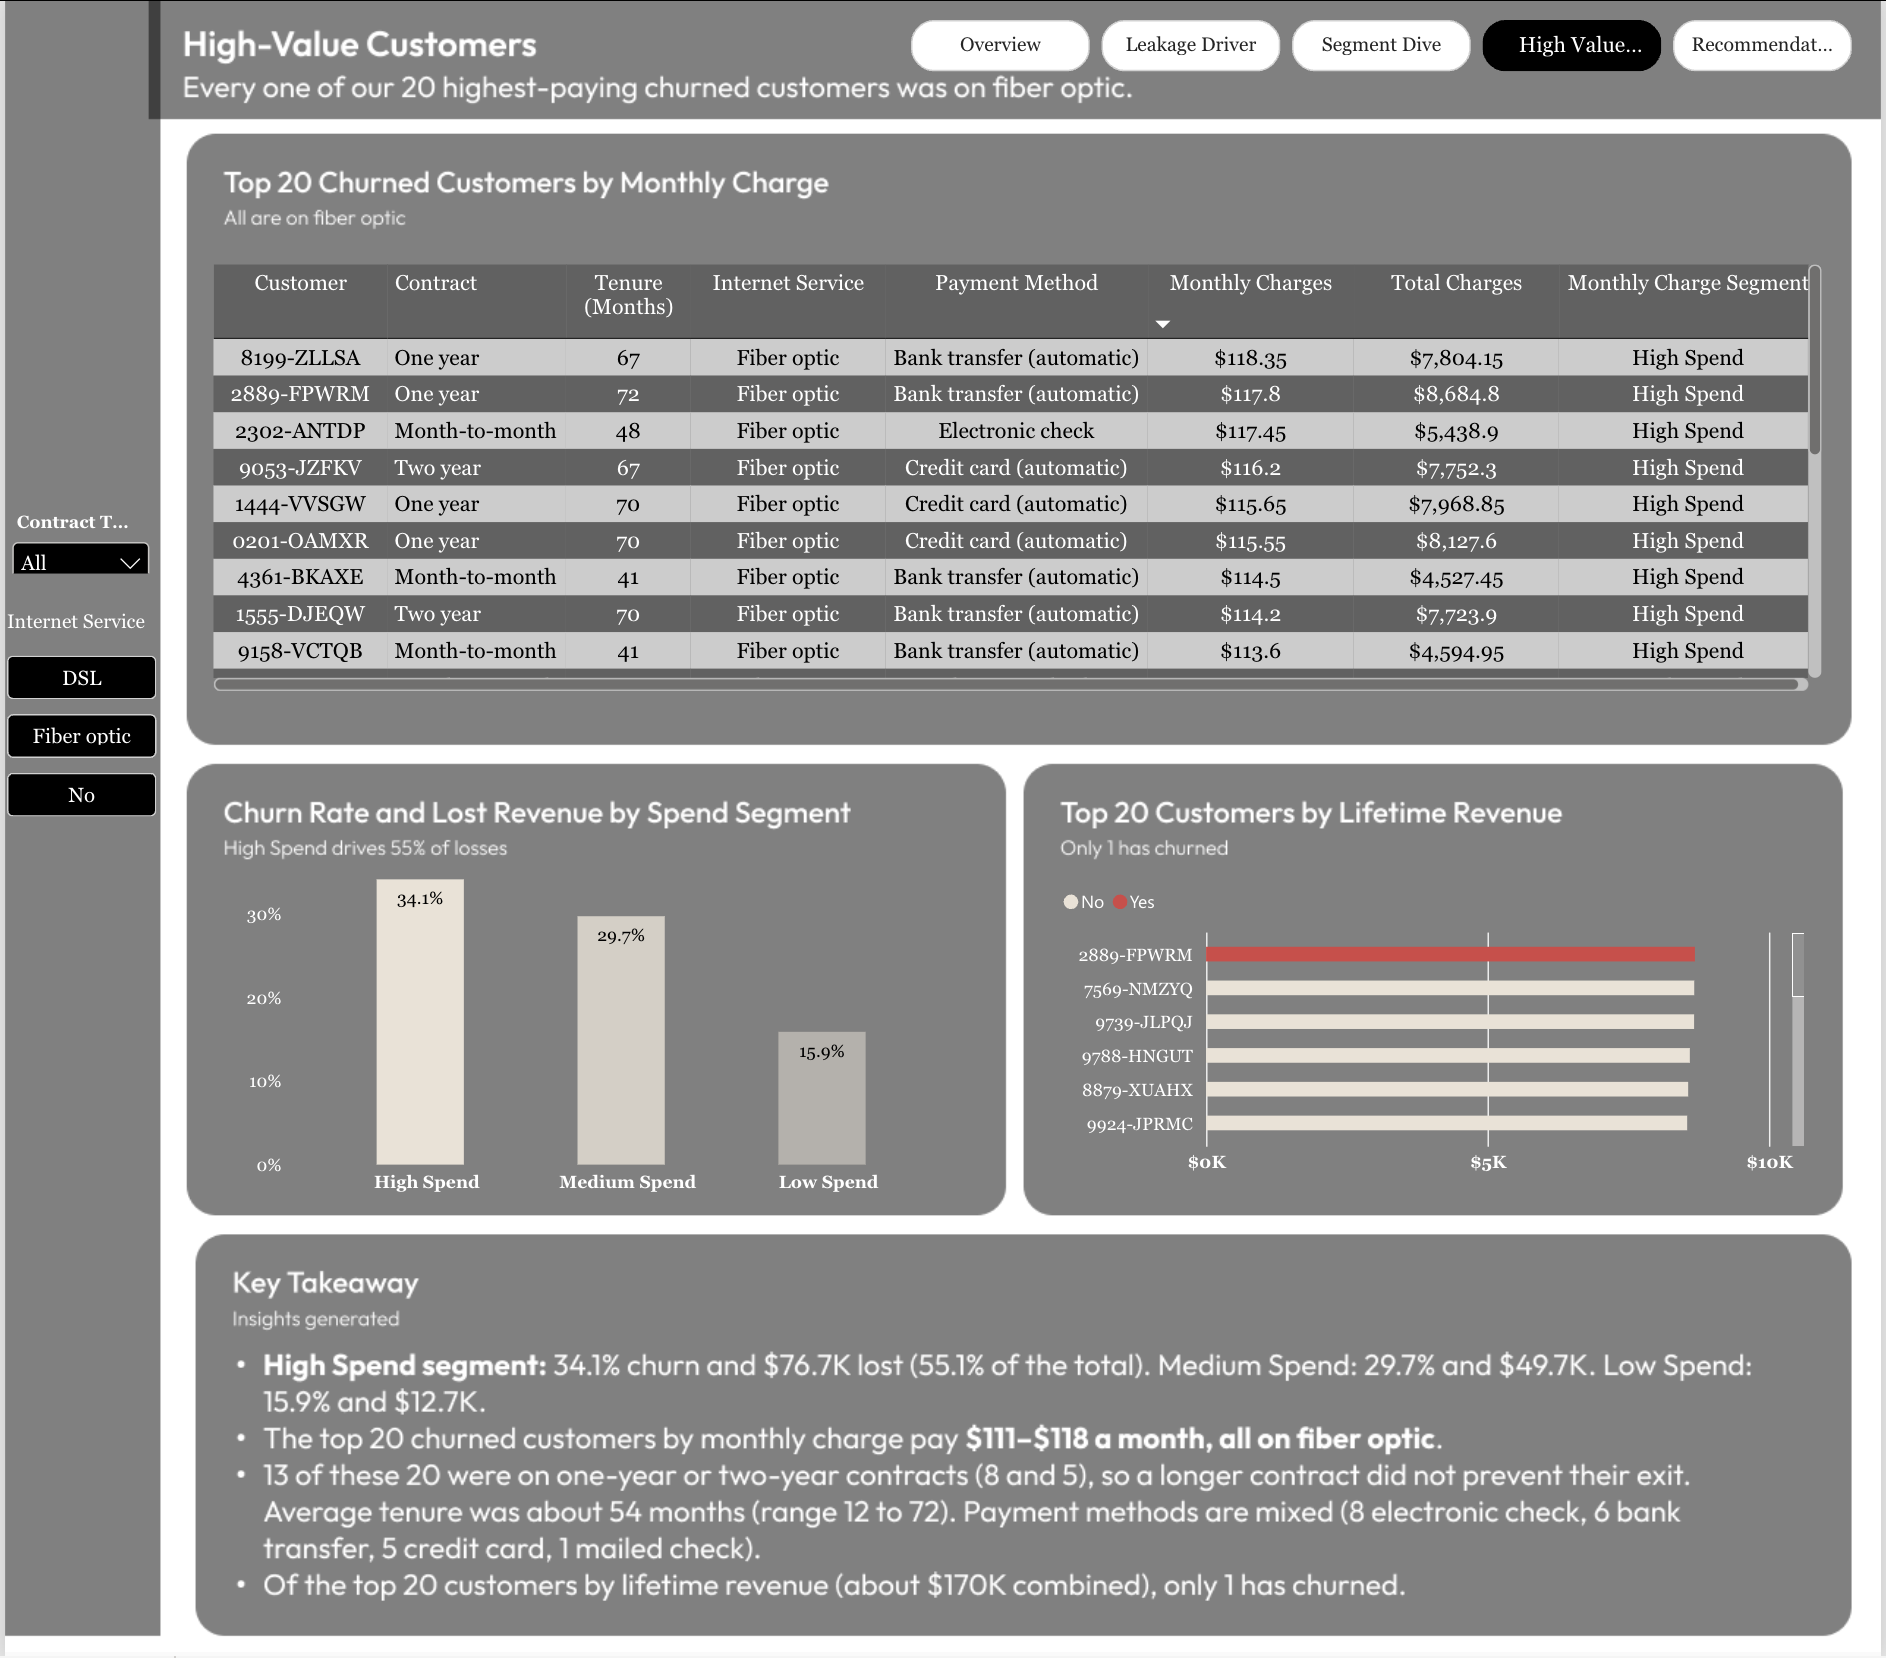

Layout of this report page (visuals, bound fields, positions):
{"tool":"powerbi","page":{"name":"High Value Category","canvas":[1280,1130],"ordinal":3},"visuals":[{"type":"tableEx","fields":{"Values":["Clean IBM Teleco data 2.customerID","Clean IBM Teleco data 2.Contract","Clean IBM Teleco data 2.tenure","Clean IBM Teleco data 2.InternetService","Clean IBM Teleco data 2.PaymentMethod","Clean IBM Teleco data 2.MonthlyCharges","Clean IBM Teleco data 2.TotalCharges","Clean IBM Teleco data 2.MonthlyChargeSegment"]},"box":[125.6,166.8,1130,321.1],"z":0},{"type":"clusteredColumnChart","fields":{"Category":["Clean IBM Teleco data 2.MonthlyChargeSegment"],"Y":["Clean IBM Teleco data 2.Churn Rate %"]},"box":[148.9,572.2,518.4,261.9],"z":1000},{"type":"barChart","fields":{"Category":["Clean IBM Teleco data 2.customerID"],"Series":["Clean IBM Teleco data 2.Churn"],"Y":["Sum(Clean IBM Teleco data 2.TotalCharges)"]},"box":[704.9,586.5,538.1,233.2],"z":2000},{"type":"slicer","fields":{"Values":["Clean IBM Teleco data 2.Contract"]},"box":[0,349.8,103.5,41.9],"z":3000},{"type":"advancedSlicerVisual","title":"Internet Service","fields":{"Values":["Clean IBM Teleco data 2.InternetService"]},"box":[1.3,416.6,102.2,141.5],"z":4000},{"type":"pageNavigator","box":[618.3,13.6,642.7,35.3],"z":5000}]}

Visuals, with their boxes in screenshot pixels (x1, y1, x2, y2), scaled from the page's 1280x1130 canvas onto the 1886x1658 screenshot:
tableEx - Clean IBM Teleco data 2.customerID x Clean IBM Teleco data 2.Contract: 185 245 1850 716
clusteredColumnChart - Clean IBM Teleco data 2.MonthlyChargeSegment x Clean IBM Teleco data 2.Churn Rate %: 219 840 983 1224
barChart - Clean IBM Teleco data 2.customerID x Clean IBM Teleco data 2.Churn: 1039 861 1831 1203
slicer - Clean IBM Teleco data 2.Contract: 0 513 153 575
"Internet Service" advancedSlicerVisual: 2 611 153 819
pageNavigator: 911 20 1858 72
